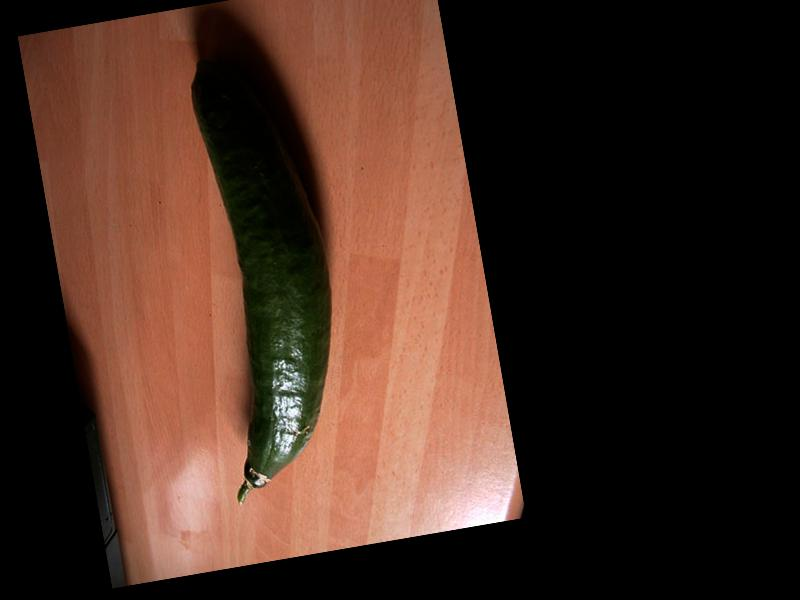Cucumber: (163, 42, 367, 503)
